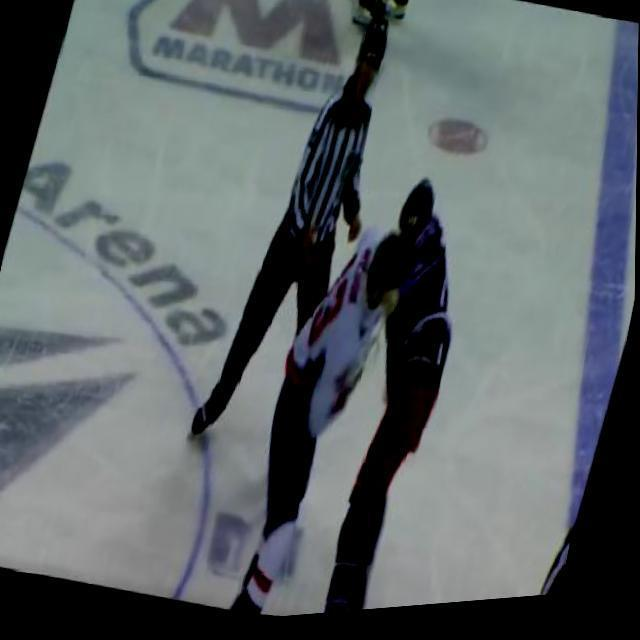fight: (220, 147, 500, 626)
